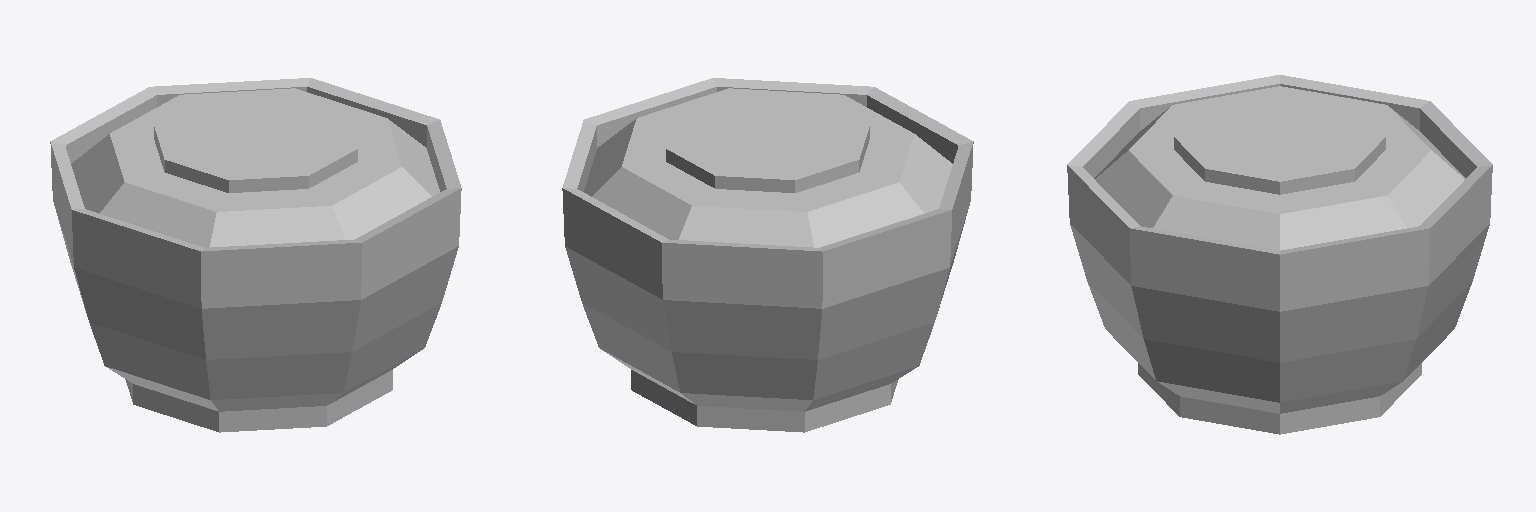
Rendered from serving_bowl_2.obj.
The picture shows the model from 3 angles: view 1: azimuth 30°, elevation 25°; view 2: azimuth 150°, elevation 25°; view 3: azimuth 270°, elevation 25°; orthographic projection.
Parts seen in each view (by area): view 1: serving_bowl_2_Cylinder.126, serving_bowl_2.006_lid_Cylinder.127; view 2: serving_bowl_2_Cylinder.126, serving_bowl_2.006_lid_Cylinder.127; view 3: serving_bowl_2_Cylinder.126, serving_bowl_2.006_lid_Cylinder.127.
Boxes of the visible parts, box(x1,y1,x2,y2) form: serving_bowl_2_Cylinder.126: box(50, 78, 461, 432); serving_bowl_2.006_lid_Cylinder.127: box(71, 88, 439, 247); serving_bowl_2_Cylinder.126: box(562, 78, 973, 432); serving_bowl_2.006_lid_Cylinder.127: box(584, 88, 952, 247); serving_bowl_2_Cylinder.126: box(1067, 75, 1492, 434); serving_bowl_2.006_lid_Cylinder.127: box(1094, 86, 1465, 250).
Bounding box in the file's own units: 1.89 × 1.17 × 1.89.